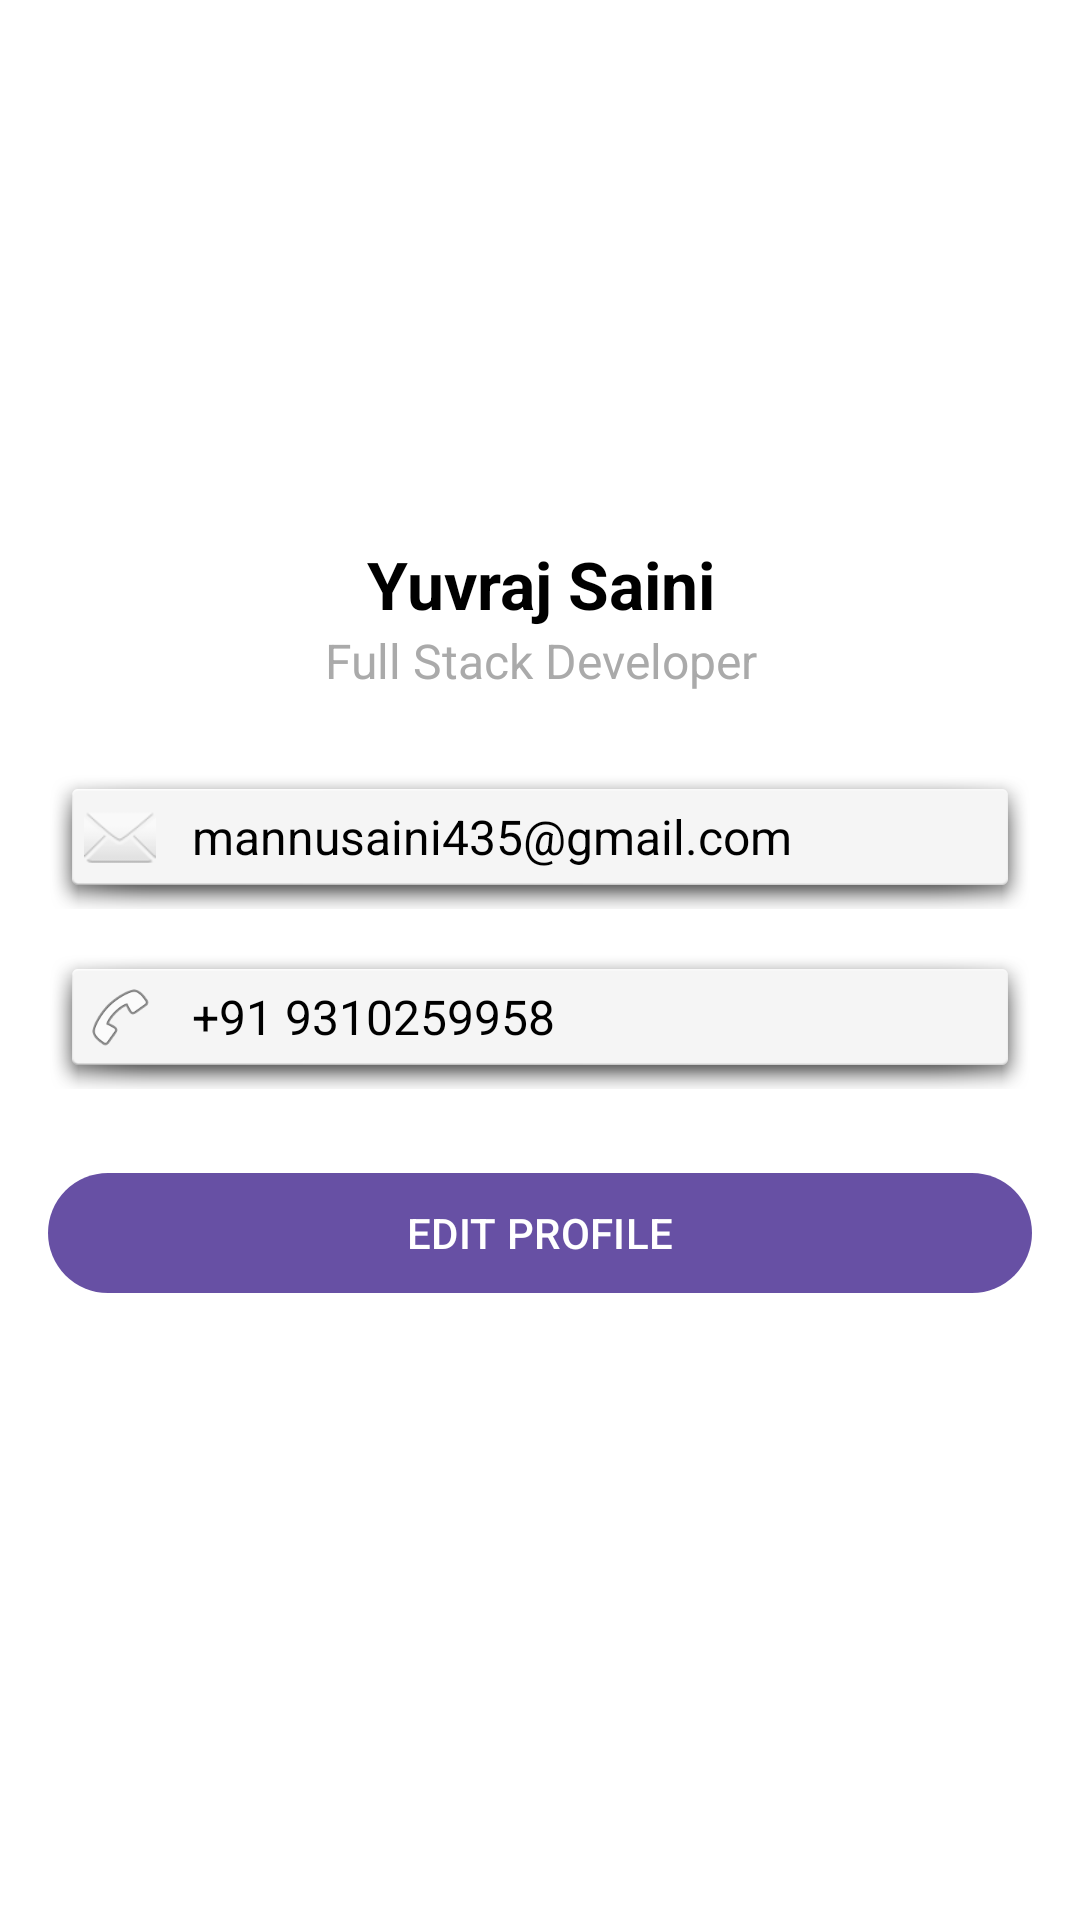

Icons on this 1080w x 1920h Android screen, each with the point to tap as (x=x, y=y):
call: (x=120, y=1017)
email: (x=120, y=839)
